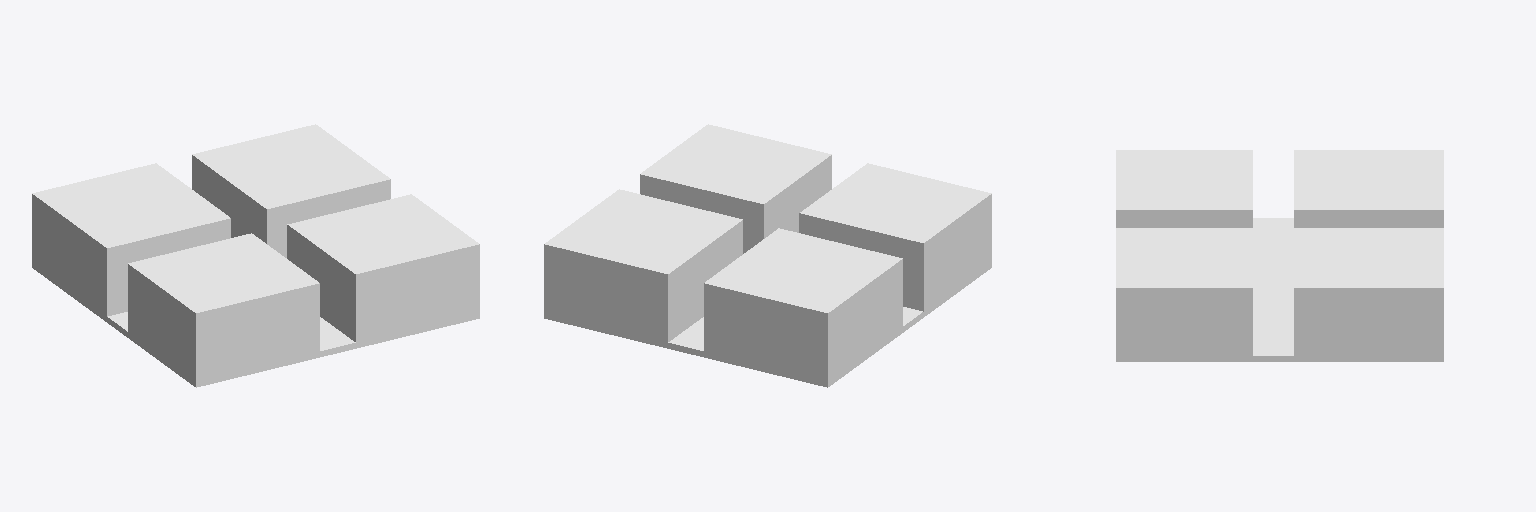
The model's file is 4_Way.obj.
3 renders of one model, left to right at view 1: azimuth 30°, elevation 25°; view 2: azimuth 150°, elevation 25°; view 3: azimuth 270°, elevation 25°, orthographic.
Parts seen in each view (by area): view 1: 4way_room-02_4way_room-02; view 2: 4way_room-02_4way_room-02; view 3: 4way_room-02_4way_room-02.
Part boxes in pixels (x1,y1,x2,y2): 4way_room-02_4way_room-02: (32, 124, 479, 387); 4way_room-02_4way_room-02: (544, 124, 991, 387); 4way_room-02_4way_room-02: (1116, 150, 1443, 361).
Bounding box in the file's own units: 48 × 12 × 48.